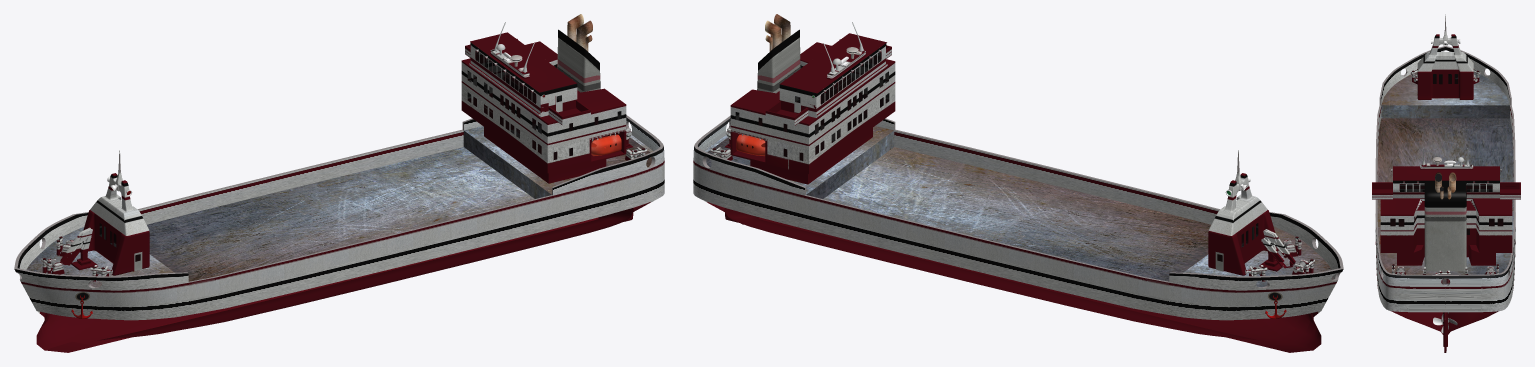
File: ship_1.glb
3 views of the same model, side by side, from view 1: azimuth 30°, elevation 25°; view 2: azimuth 150°, elevation 25°; view 3: azimuth 270°, elevation 25° (orthographic). The views are drawn at different scales.
Parts seen in each view (by area): view 1: Object_19, Object_7, Object_22, Object_18, Object_16, Object_6, Object_23, Object_20, Object_30, Object_32, Object_8; view 2: Object_19, Object_7, Object_22, Object_18, Object_16, Object_6, Object_23, Object_30, Object_20, Object_32, Object_8; view 3: Object_19, Object_7, Object_22, Object_6, Object_16, Object_5, Object_23, Object_18, Object_30, Object_32, Object_17, Object_20 (+1 smaller).
Part boxes in pixels (x1,y1,x2,y2): Object_19: (14, 32, 664, 352); Object_7: (26, 124, 653, 287); Object_22: (21, 129, 664, 320); Object_18: (56, 71, 626, 281); Object_16: (90, 39, 626, 235); Object_6: (557, 37, 600, 92); Object_23: (99, 70, 541, 261); Object_20: (85, 49, 545, 275); Object_30: (468, 50, 621, 159); Object_32: (567, 14, 592, 51); Object_8: (591, 134, 621, 156); Object_19: (693, 33, 1343, 352); Object_7: (705, 124, 1333, 287); Object_22: (693, 129, 1336, 320); Object_18: (730, 72, 1301, 281); Object_16: (730, 39, 1267, 235); Object_6: (757, 37, 800, 93); Object_23: (815, 71, 1258, 261); Object_30: (735, 52, 888, 160); Object_20: (826, 50, 1277, 273); Object_32: (765, 14, 790, 51); Object_8: (736, 134, 765, 156); Object_19: (1372, 14, 1520, 352); Object_7: (1377, 73, 1513, 285); Object_22: (1375, 105, 1515, 312); Object_6: (1424, 207, 1466, 271); Object_16: (1380, 34, 1512, 215); Object_5: (1424, 181, 1466, 207); Object_23: (1390, 74, 1503, 234); Object_18: (1380, 69, 1512, 231); Object_30: (1380, 184, 1492, 239); Object_32: (1435, 172, 1456, 199); Object_17: (1392, 264, 1498, 283); Object_20: (1392, 73, 1473, 170).
Size of the model in its own units: 7.79 by 2.58 by 2.12.
24 materials, 21 textured.
